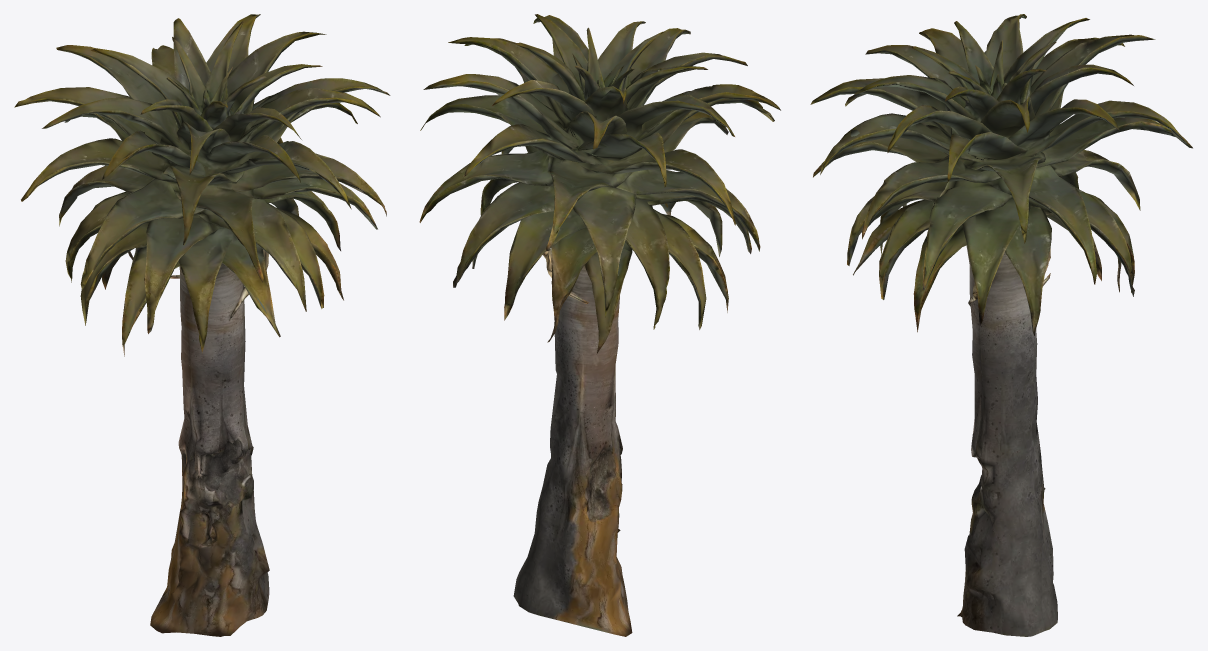
File: quiver_lod0.glb
The picture shows the model from 3 angles, left to right: view 1: azimuth 30°, elevation 25°; view 2: azimuth 150°, elevation 25°; view 3: azimuth 270°, elevation 25°; orthographic projection.
Parts seen in each view (by area): view 1: quiver_tree_02; view 2: quiver_tree_02; view 3: quiver_tree_02.
Part boxes in pixels (box(x1,y1,x2,y2)): quiver_tree_02: box(14, 14, 390, 636); quiver_tree_02: box(419, 14, 780, 636); quiver_tree_02: box(810, 14, 1192, 636).
Bounding box in the file's own units: 0.8716 × 1.47 × 0.8805.
1 material, 1 textured.
